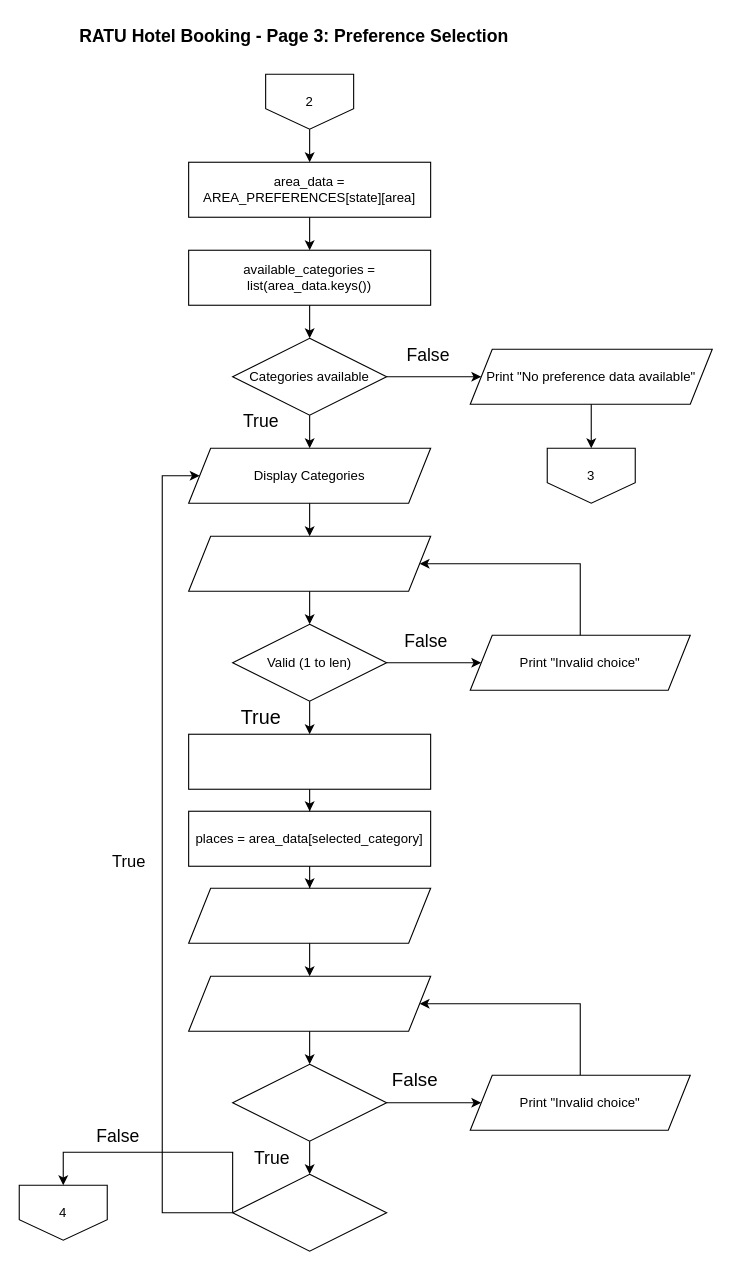
This 732x1271 diagram has some shape labels left out. The shapes that lost their labels are listed below. From the top down, each one's centre as x and y in pixels, then its label:
[309,563]: INPUT cat_choice
[309,761]: selected_category = categories[choice-1]
[309,915]: Display Places
[309,1003]: INPUT place_choice (0=Back)
[309,1102]: Valid (0 to len)
[309,1212]: place_choice == 0
